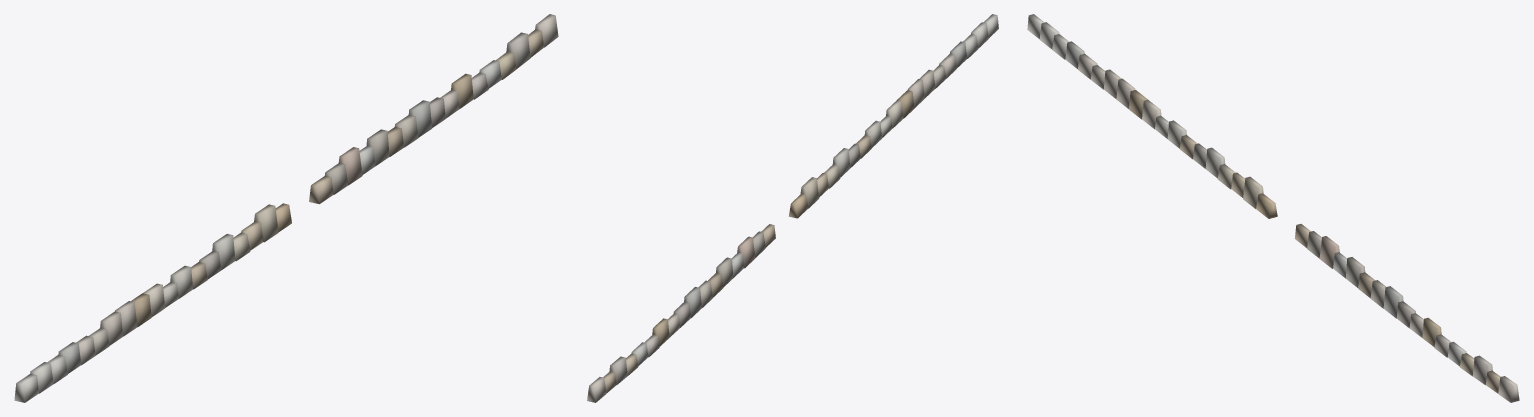
The model's file is farm_1_2_collision.glb.
3 renders of one model, left to right at view 1: azimuth 30°, elevation 25°; view 2: azimuth 210°, elevation 25°; view 3: azimuth 270°, elevation 25°, orthographic. The views are drawn at different scales.
Parts seen in each view (by area): view 1: geometry_0; view 2: geometry_0; view 3: geometry_0.
Boxes of the visible parts, x1,y1,x2,y2 form: geometry_0: (14, 14, 558, 402); geometry_0: (587, 14, 998, 402); geometry_0: (1027, 14, 1519, 402).
Size of the model in its own units: 50.61 by 4.7 by 32.39.
